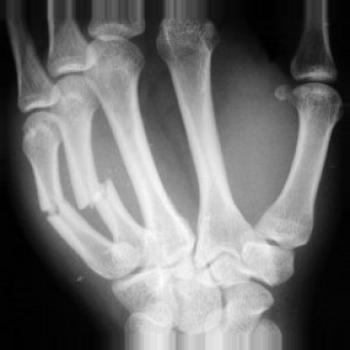Fracture: (79, 174, 116, 212), (33, 204, 72, 224)
